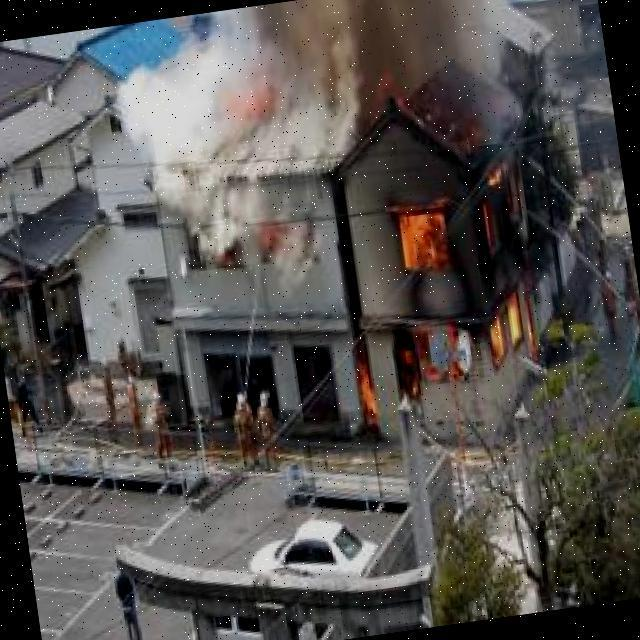Fire: (315, 168, 554, 438)
